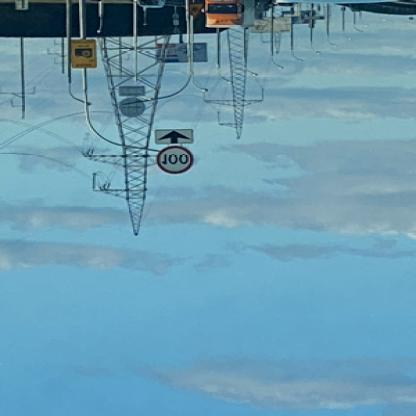speedlimit: (152, 146, 192, 174)
